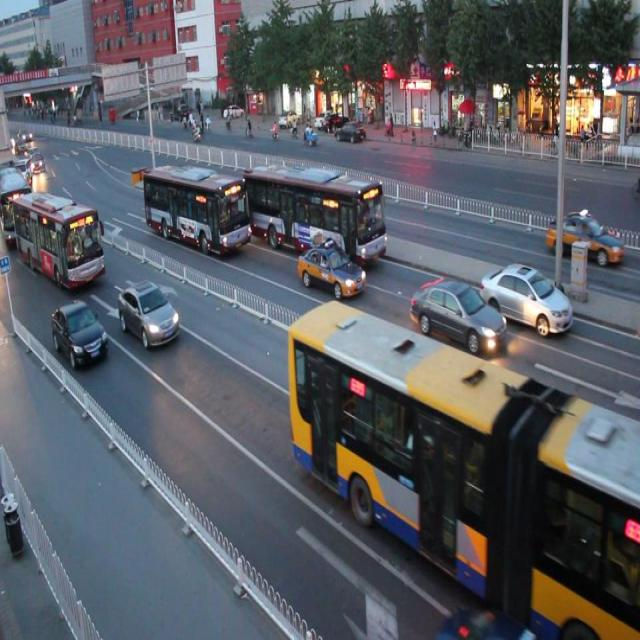car: (480, 259, 573, 337), (409, 278, 506, 351), (296, 237, 365, 300), (116, 282, 180, 347), (545, 206, 615, 265), (52, 299, 110, 369), (437, 599, 521, 640), (175, 162, 210, 191)
van: (288, 306, 640, 640), (248, 162, 387, 267), (145, 163, 251, 253), (8, 193, 106, 288)
